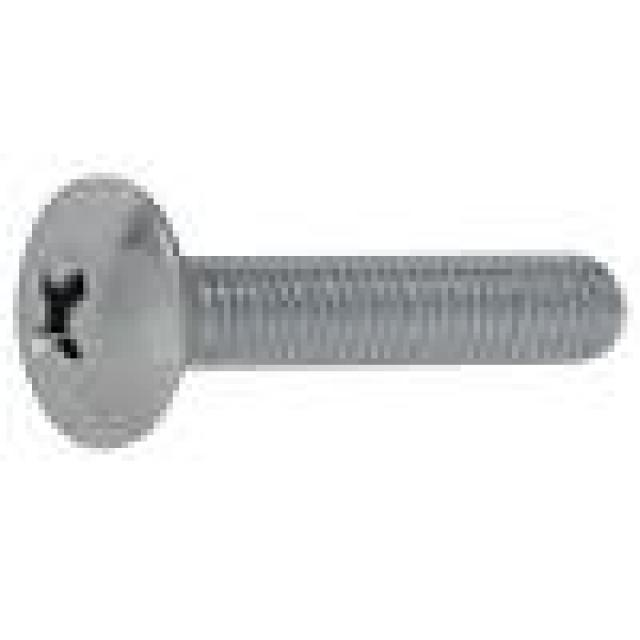Screw: (13, 173, 627, 454)
